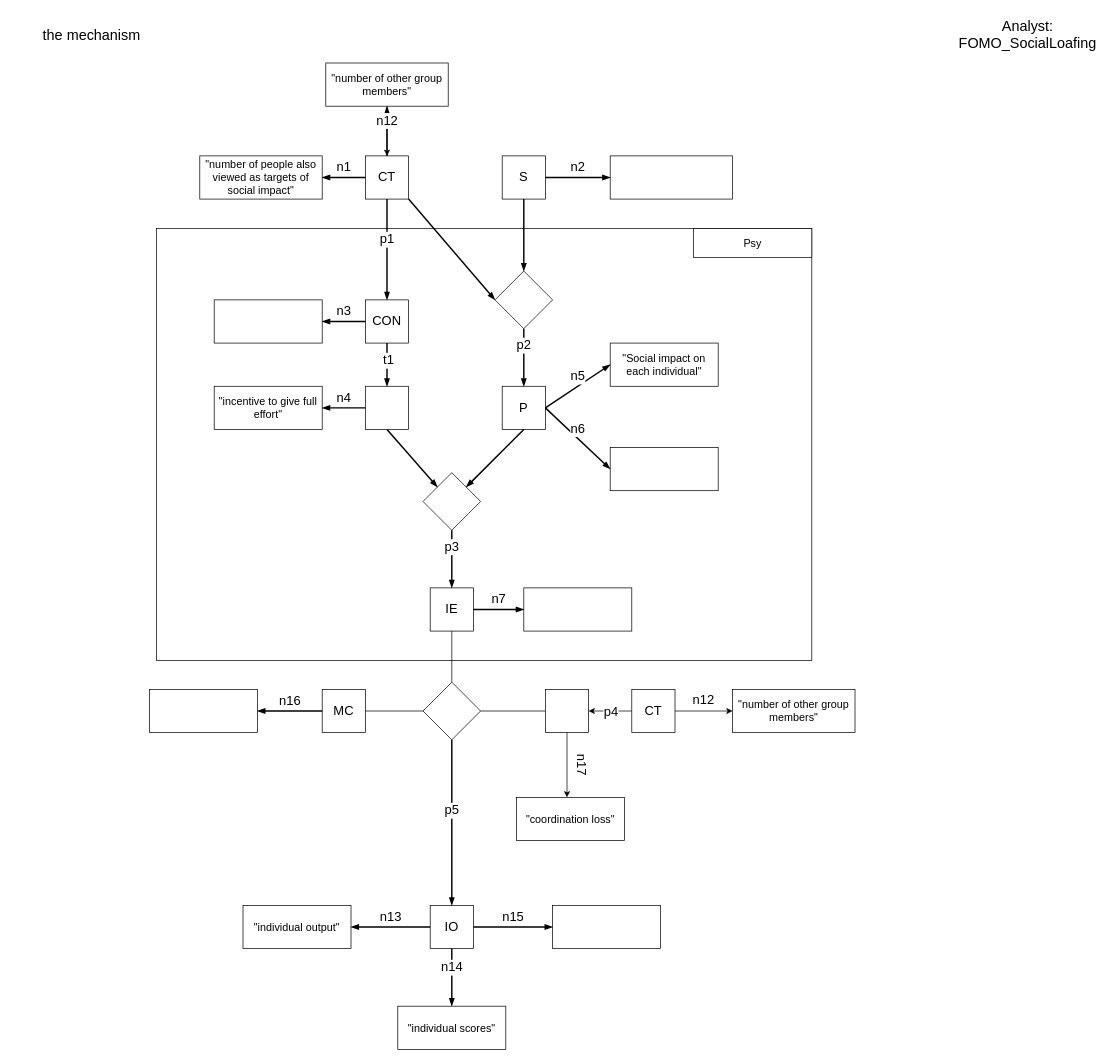
Image size: 1119x1062. Some labels were removed from this diagram. The shapes that lost their labels are listed below. From the top down, each one's centre as x and y in pixels, then its label:
(x=671, y=177): "number of people viewed as source of social pressure"
(x=267, y=321): "perceived contingency between input and outcome"
(x=387, y=407): INC
(x=663, y=469): "Social pressure on each individual"
(x=577, y=609): "individual effort"
(x=203, y=711): "maximal capacity of indiviudal"
(x=567, y=711): CL
(x=606, y=927): "individual performance"
